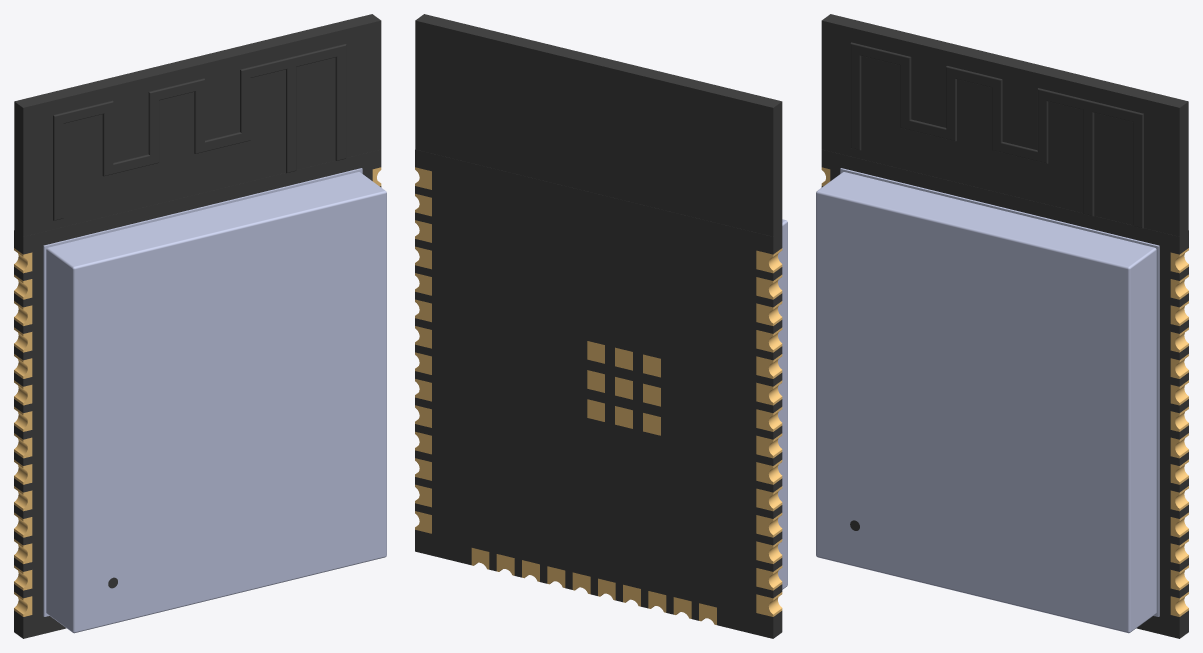
3 renders of one model, left to right at view 1: azimuth 30°, elevation 25°; view 2: azimuth 150°, elevation 25°; view 3: azimuth 330°, elevation 25°, orthographic.
Size of the model in its own units: 18 by 25.5 by 3.25.
